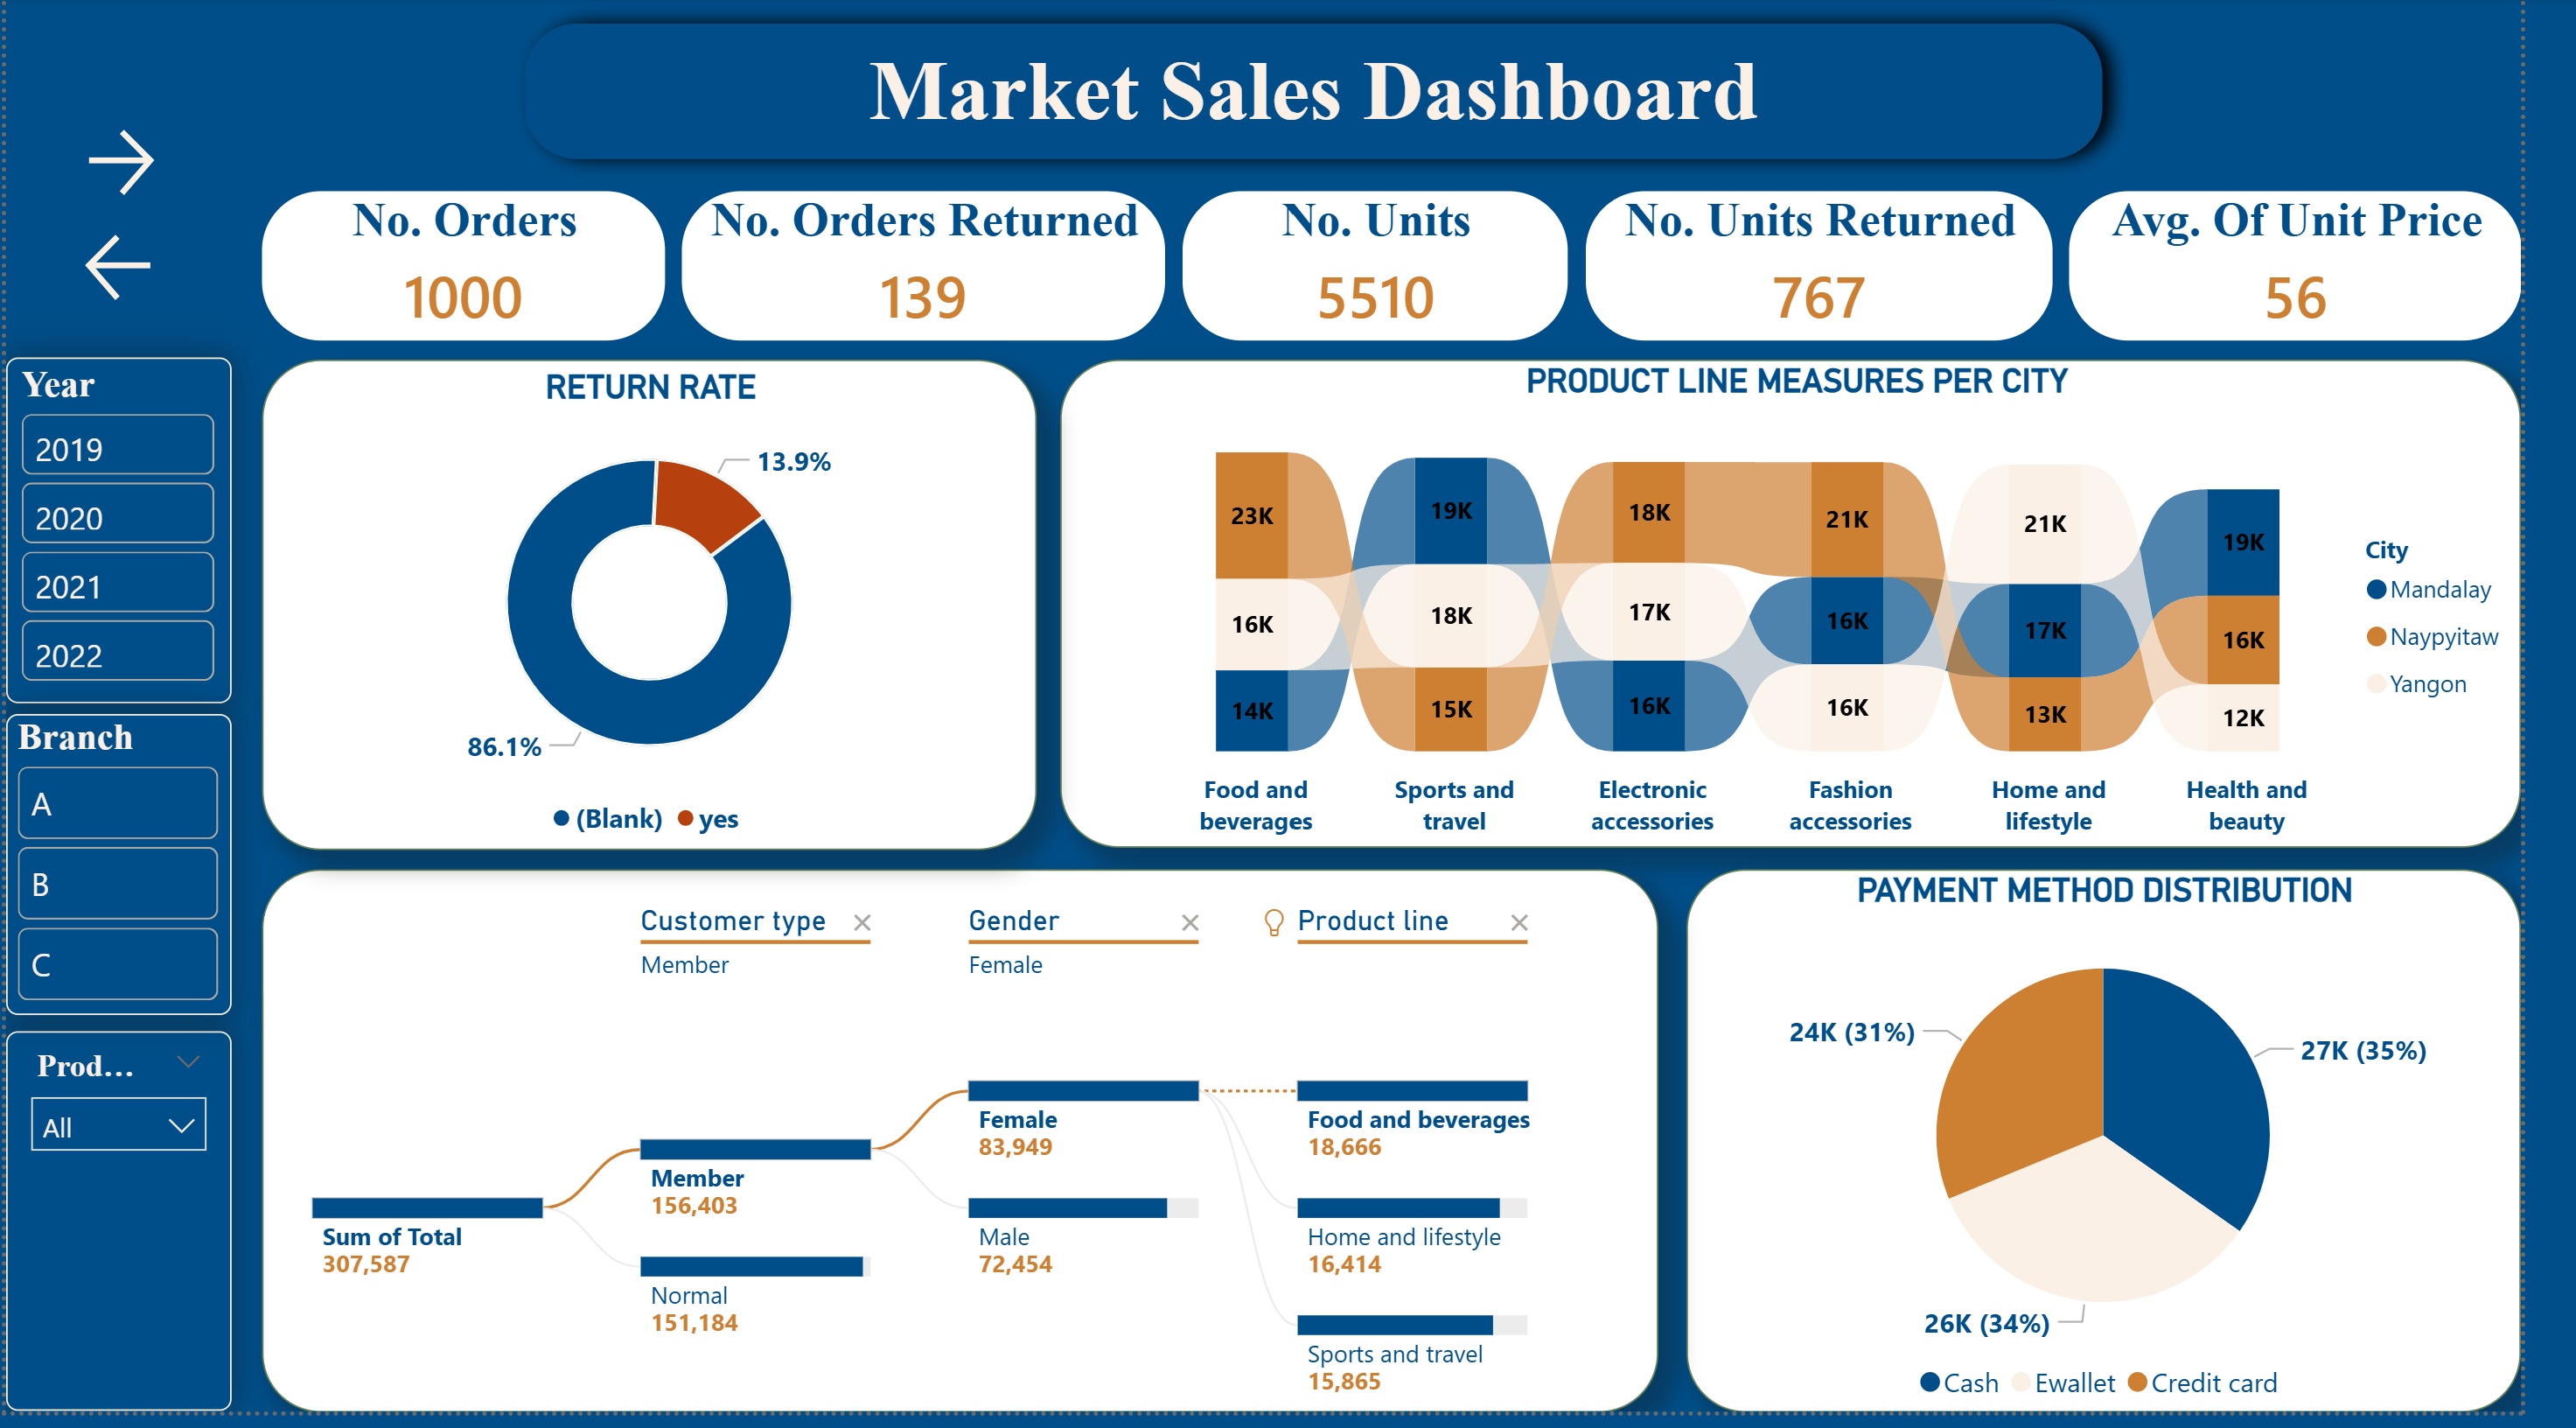

What the dashboard file says about the page in this screenshot:
{"tool":"powerbi","page":{"name":"Dashbaord2","canvas":[1280,720],"ordinal":2},"visuals":[{"type":"shape","box":[250.9,0,830,96.5],"z":0},{"type":"ribbonChart","title":"PRODUCT LINE MEASURES PER CITY","fields":{"Y":["Sum(Data.Total)"],"Category":["Data.Product line"],"Series":["Data.City"]},"box":[536.9,184.6,743.2,248.5],"z":1000},{"type":"pieChart","title":"PAYMENT METHOD DISTRIBUTION ","fields":{"Y":["Sum(Data.Net Profit)"],"Category":["Data.Payment"]},"box":[855.4,444,424.7,276.3],"z":2000},{"type":"card","title":"No. Units","fields":{"Values":["Sum(Data.Quantity)"]},"box":[598.4,98.9,195.4,76],"z":3000},{"type":"card","title":"No. Orders","fields":{"Values":["CountNonNull(Data.Invoice ID)"]},"box":[130.3,98.9,205.1,76],"z":4000},{"type":"card","title":"No. Orders Returned","fields":{"Values":["CountNonNull(returns.returns)"]},"box":[343.8,98.9,246.1,76],"z":5000},{"type":"card","title":"No. Units Returned","fields":{"Values":["Data.Quantity Returned"]},"box":[803.5,98.9,237.7,76],"z":6000},{"type":"card","title":"Avg. Of Unit Price","fields":{"Values":["Avg(Data.Unit price)"]},"box":[1049.6,98.9,230.4,76],"z":7000},{"type":"decompositionTreeVisual","title":"PAYMENT METHOD DISTRIBUTION ","fields":{"ExplainBy":["Data.Customer type","Data.Gender","Data.Product line"],"Analyze":["Sum(Data.Total)"]},"box":[130.3,444,710.6,276.3],"z":8000},{"type":"donutChart","title":"RETURN RATE","fields":{"Y":["CountNonNull(Data.Invoice ID)"],"Category":["returns.returns"]},"box":[130.3,184.6,394.5,249.7],"z":9000},{"type":"slicer","fields":{"Values":["Data.Product line"]},"box":[0,527,114.6,193],"z":10000},{"type":"advancedSlicerVisual","fields":{"Values":["Data.Year"]},"box":[0,183.4,114.6,176.1],"z":11000},{"type":"advancedSlicerVisual","fields":{"Values":["Data.Branch"]},"box":[0,365.6,114.6,153.2],"z":12000},{"type":"actionButton","box":[15.7,101.3,84.5,73.6],"z":13000},{"type":"actionButton","box":[15.7,48.3,84.5,73.6],"z":14000}]}

Visuals, with their boxes in screenshot pixels (x1, y1, x2, y2), scaled from the page's 1280x720 canvas onto the 2576x1428 screenshot:
shape: detection(505, 0, 2175, 192)
"PRODUCT LINE MEASURES PER CITY" ribbonChart: detection(1080, 366, 2575, 859)
"PAYMENT METHOD DISTRIBUTION " pieChart: detection(1721, 880, 2575, 1427)
"No. Units" card: detection(1204, 196, 1597, 346)
"No. Orders" card: detection(262, 196, 675, 346)
"No. Orders Returned" card: detection(692, 196, 1187, 346)
"No. Units Returned" card: detection(1617, 196, 2096, 346)
"Avg. Of Unit Price" card: detection(2112, 196, 2575, 346)
"PAYMENT METHOD DISTRIBUTION " decompositionTreeVisual: detection(262, 880, 1693, 1427)
"RETURN RATE" donutChart: detection(262, 366, 1056, 861)
slicer - Data.Product line: detection(0, 1046, 231, 1427)
advancedSlicerVisual - Data.Year: detection(0, 364, 231, 713)
advancedSlicerVisual - Data.Branch: detection(0, 725, 231, 1029)
actionButton: detection(31, 201, 202, 346)
actionButton: detection(31, 95, 202, 241)
